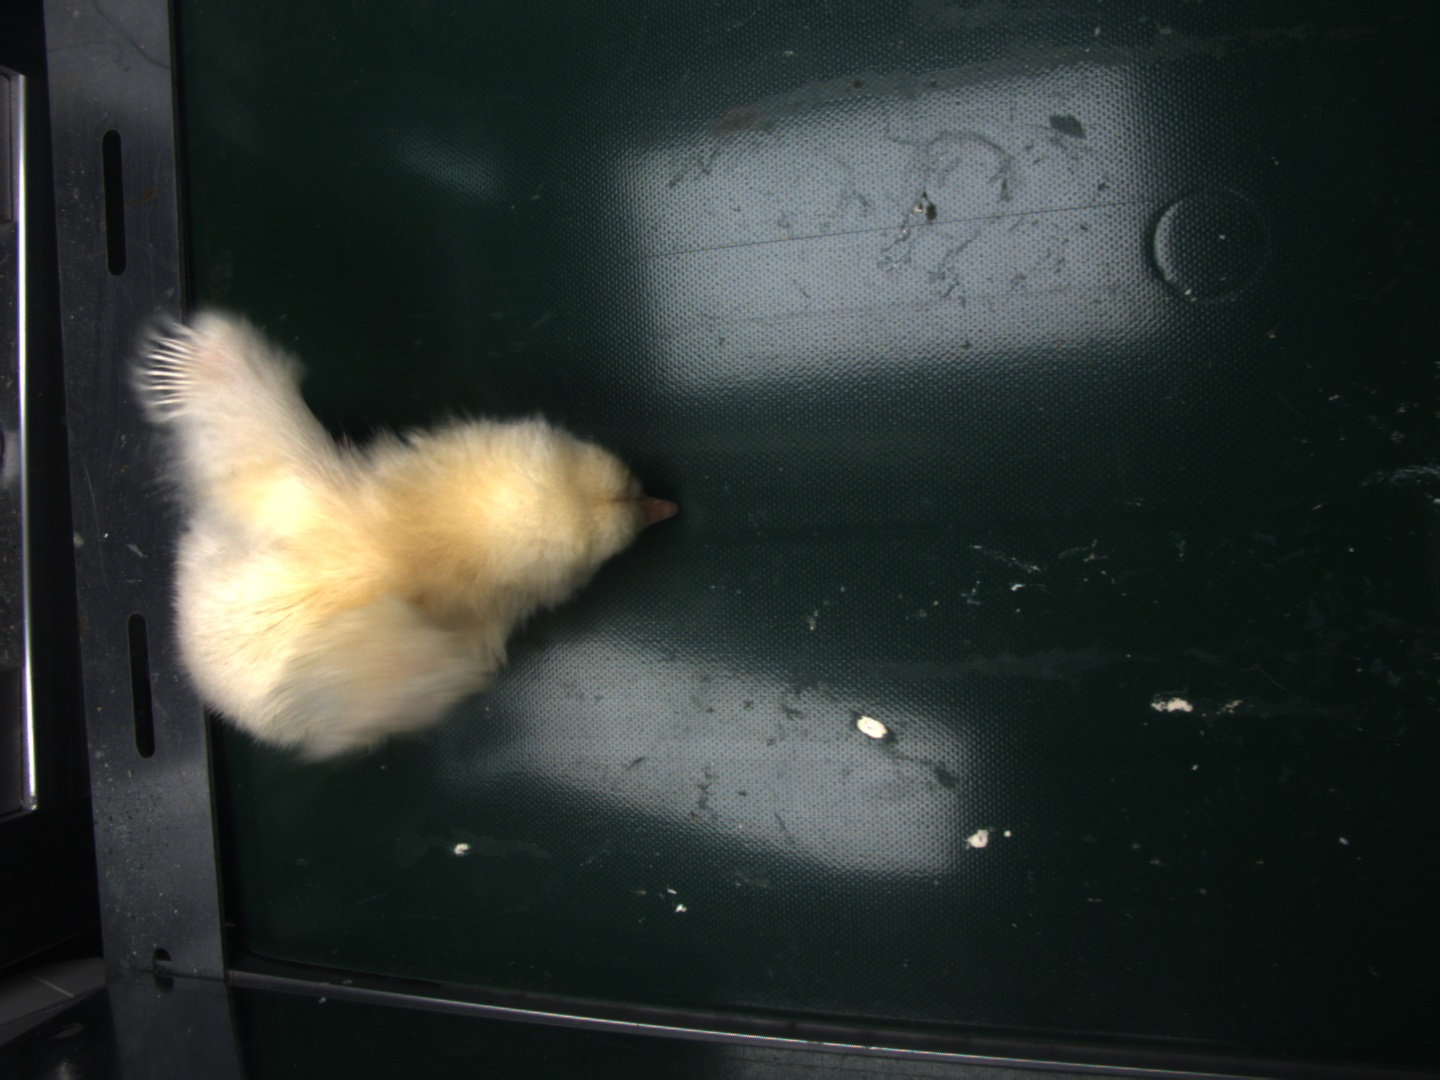male: (133, 315, 209, 420)
